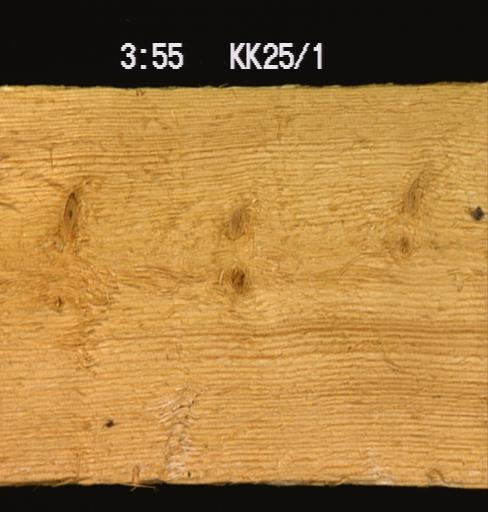small_knot: (394, 228, 419, 263)
sound_knot: (210, 183, 263, 245), (226, 260, 250, 298)
